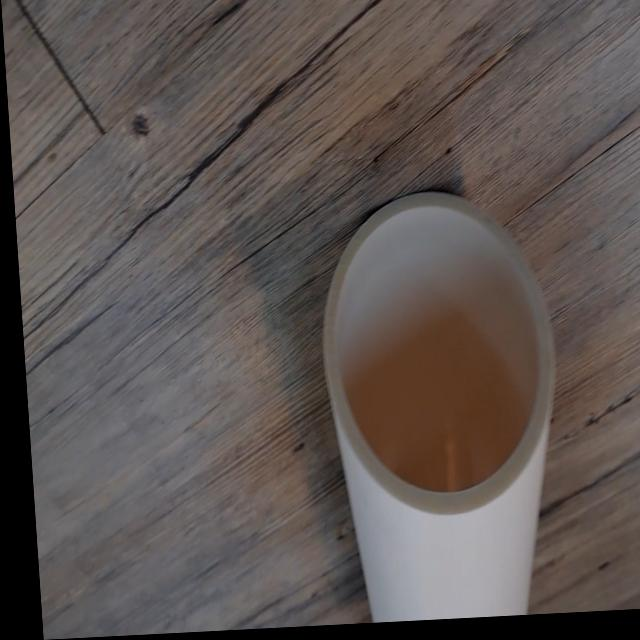CORAL: (289, 186, 579, 626)
